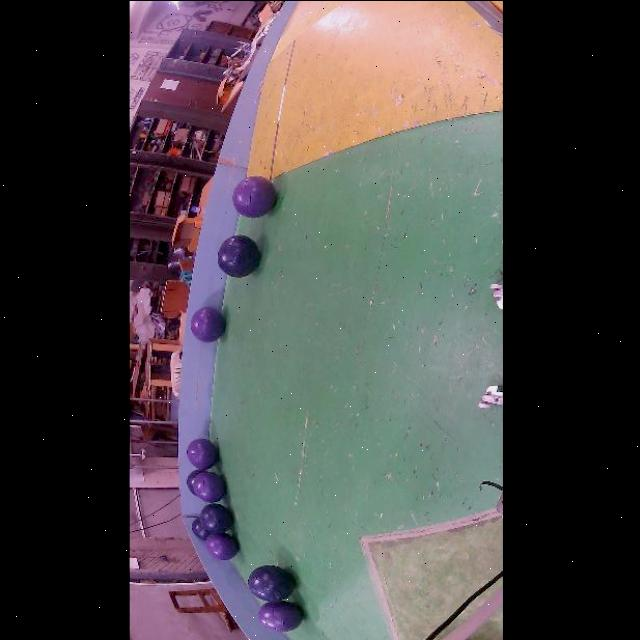B: (216, 234, 259, 277), (246, 565, 293, 602), (198, 503, 232, 533), (185, 469, 204, 495), (190, 517, 208, 541)
P: (230, 176, 275, 217), (256, 601, 302, 633), (189, 307, 224, 342), (191, 471, 224, 503), (185, 438, 216, 469), (203, 533, 237, 560)
